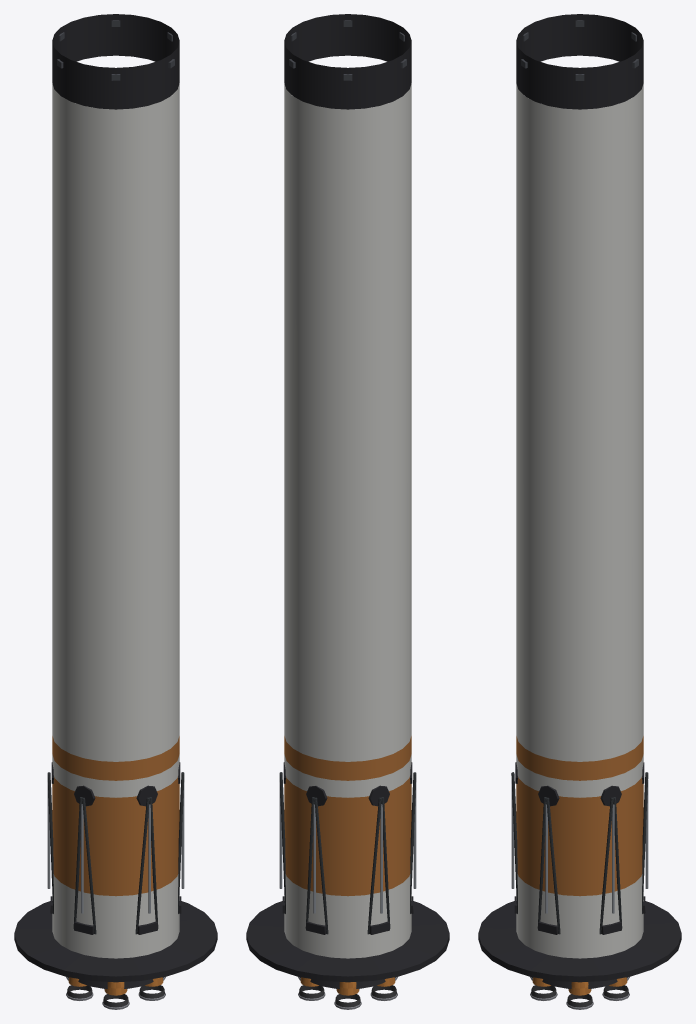
Rendered from s1.mid.glb.
3 views of the same model, side by side, from view 1: azimuth 30°, elevation 25°; view 2: azimuth 150°, elevation 25°; view 3: azimuth 270°, elevation 25° (orthographic).
Visible parts, largest first — view 1: s1.hull, s1.dark, leg_1.dark, leg_2.dark, s1.bell, leg_0.dark, leg_3.dark; view 2: s1.hull, s1.dark, leg_4.dark, leg_3.dark, s1.bell, leg_5.dark, leg_2.dark; view 3: s1.hull, s1.dark, leg_5.dark, leg_0.dark, s1.bell, leg_1.dark, leg_4.dark.
Part boxes in pixels (box(x1,y1,x2,y2)): s1.hull: box(52, 84, 179, 958); s1.dark: box(14, 14, 217, 988); leg_1.dark: box(135, 785, 158, 934); leg_2.dark: box(73, 785, 96, 934); s1.bell: box(67, 977, 164, 1007); leg_0.dark: box(178, 762, 184, 913); leg_3.dark: box(47, 762, 53, 913); s1.hull: box(284, 84, 411, 958); s1.dark: box(246, 14, 449, 988); leg_4.dark: box(305, 786, 328, 934); leg_3.dark: box(367, 785, 390, 934); s1.bell: box(299, 977, 396, 1007); leg_5.dark: box(279, 762, 285, 913); leg_2.dark: box(410, 762, 416, 913); s1.hull: box(516, 84, 643, 958); s1.dark: box(478, 14, 681, 988); leg_5.dark: box(599, 785, 622, 934); leg_0.dark: box(537, 785, 560, 934); s1.bell: box(531, 977, 628, 1007); leg_1.dark: box(511, 762, 517, 913); leg_4.dark: box(642, 762, 648, 913).
Bounding box in the file's own units: 11.2 × 57.42 × 11.2.
